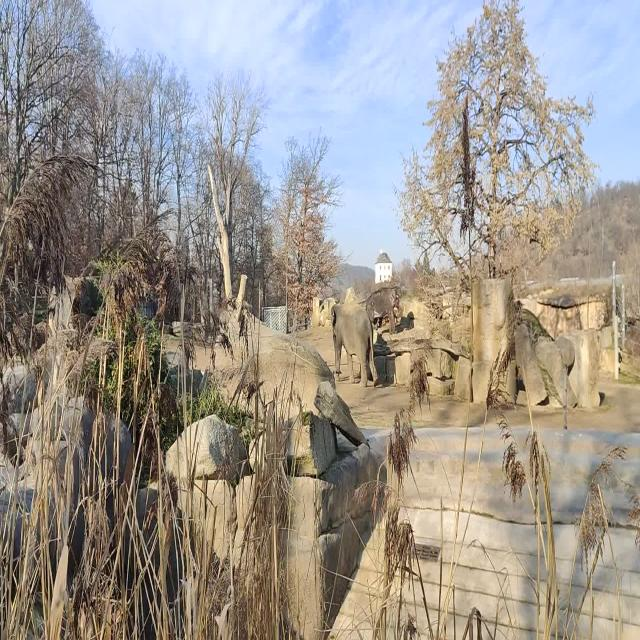elephant: (331, 303, 378, 387), (366, 286, 404, 335)
